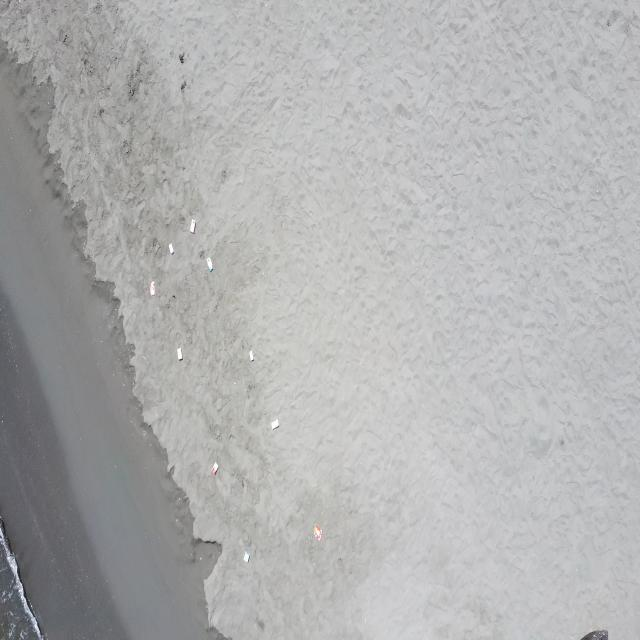retort-pouch: (313, 524, 322, 542), (206, 256, 214, 273), (270, 418, 280, 431), (189, 218, 197, 234), (211, 461, 219, 476), (149, 280, 156, 296), (243, 550, 251, 564), (168, 241, 175, 256), (177, 346, 183, 362), (249, 349, 255, 364)
